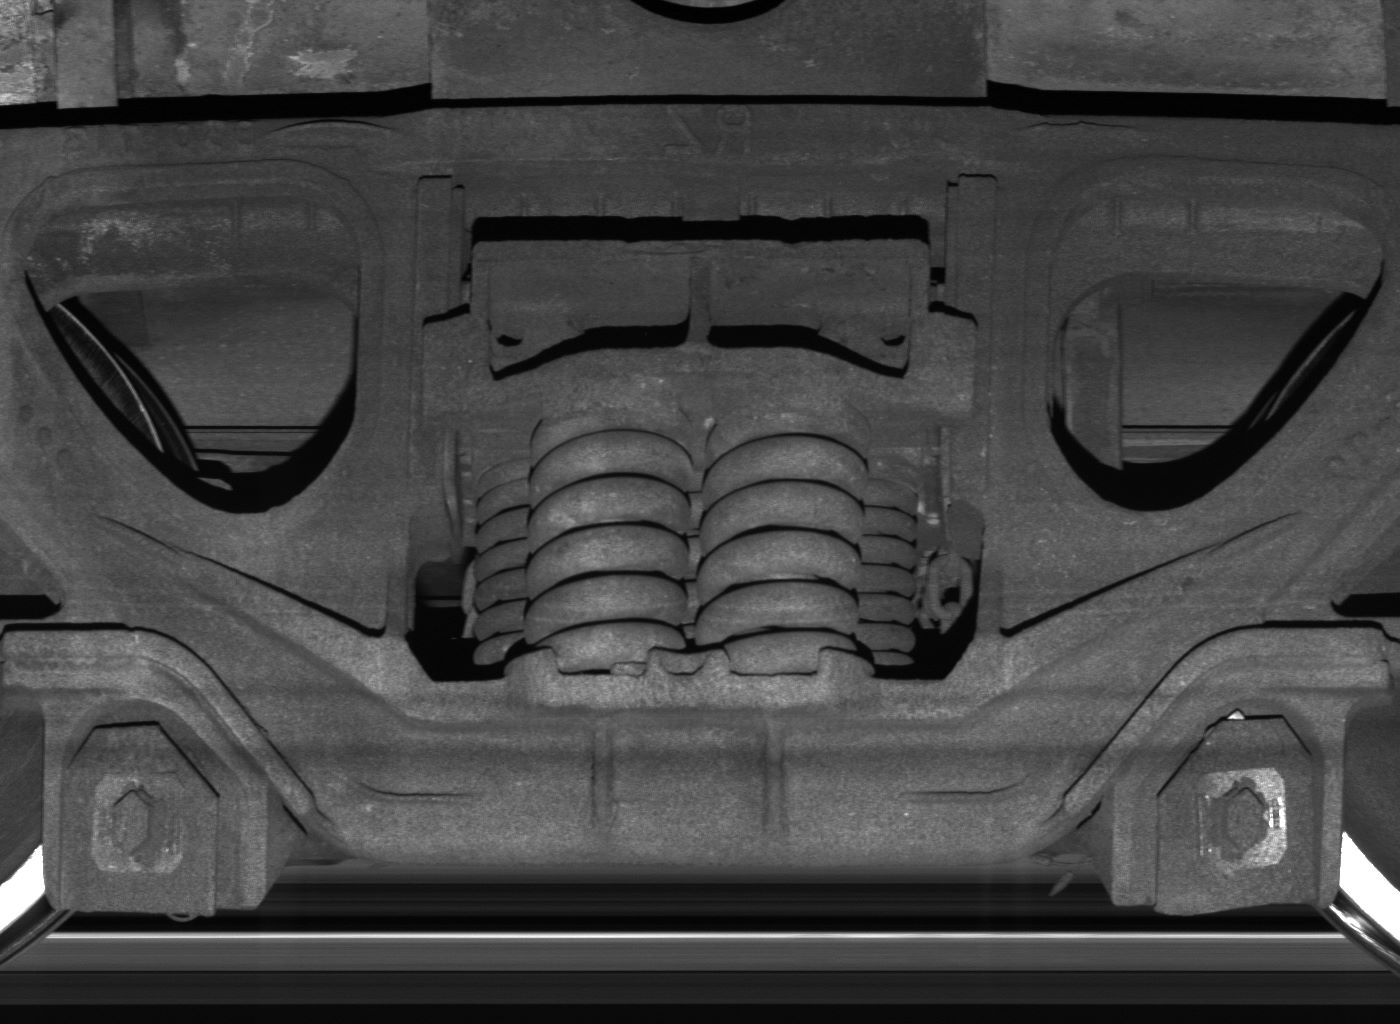locking plate: (1112, 698, 1343, 915)
normal: (43, 699, 266, 916)
